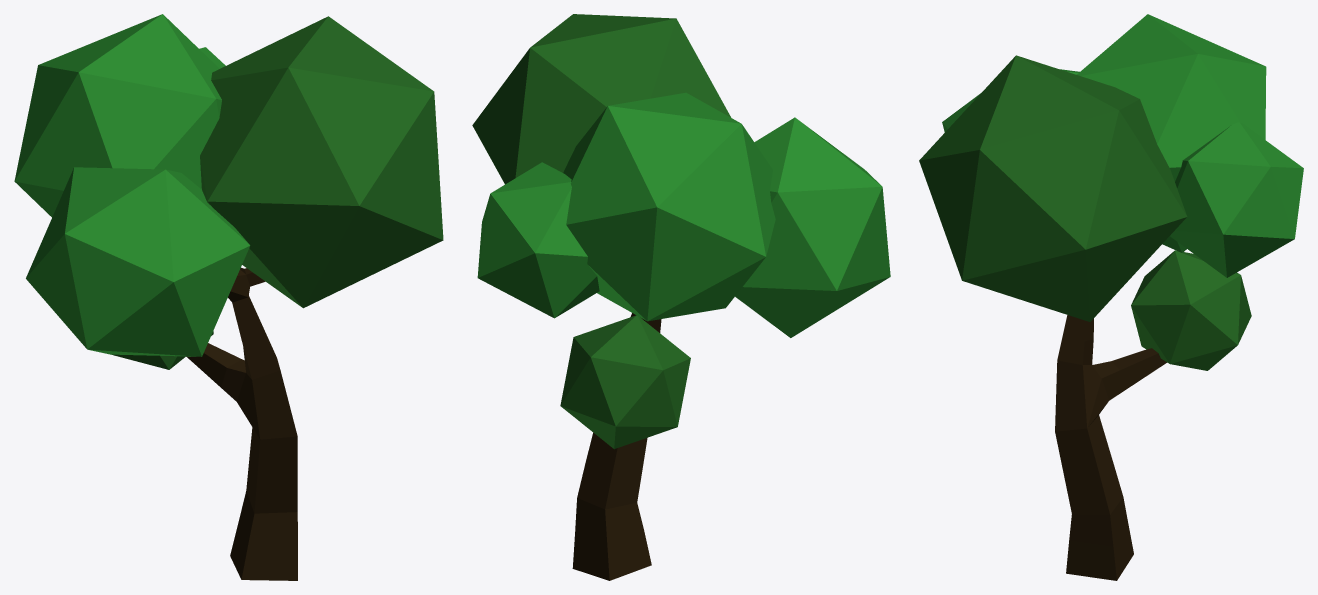
The model's file is Tree3.fbx.
The picture shows the model from 3 angles, left to right: view 1: azimuth 30°, elevation 25°; view 2: azimuth 150°, elevation 25°; view 3: azimuth 270°, elevation 25°; orthographic projection. The views are drawn at different scales.
Parts seen in each view (by area): view 1: Greener, Green, Tree; view 2: Greener, Green, Tree; view 3: Green, Greener, Tree.
Part boxes in pixels (x1,y1,x2,y2): Greener: (14,14,250,356); Green: (112,16,443,369); Tree: (186,267,297,580); Greener: (477,92,890,337); Green: (472,14,730,449); Tree: (572,313,661,580); Green: (919,55,1251,370); Greener: (942,14,1303,277); Tree: (1055,315,1166,580).
Size of the model in its own units: 624 by 824 by 573.
